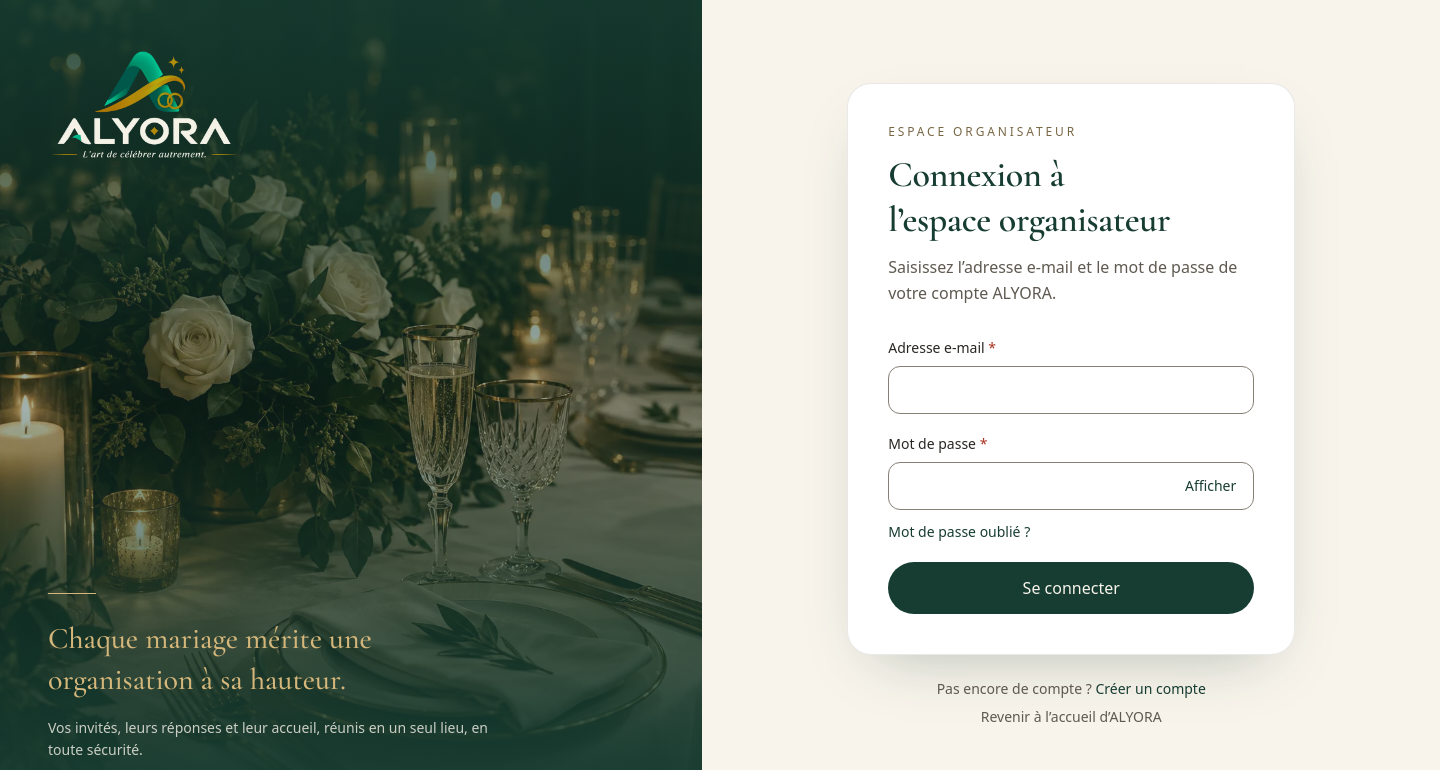
Scenario: login page › shows the invalid credentials message, and never tries a refresh for it
Type "awa@exemple.ci" into the field labelled "Adresse e-mail *" at (1071, 390), box [888,366,1254,414]
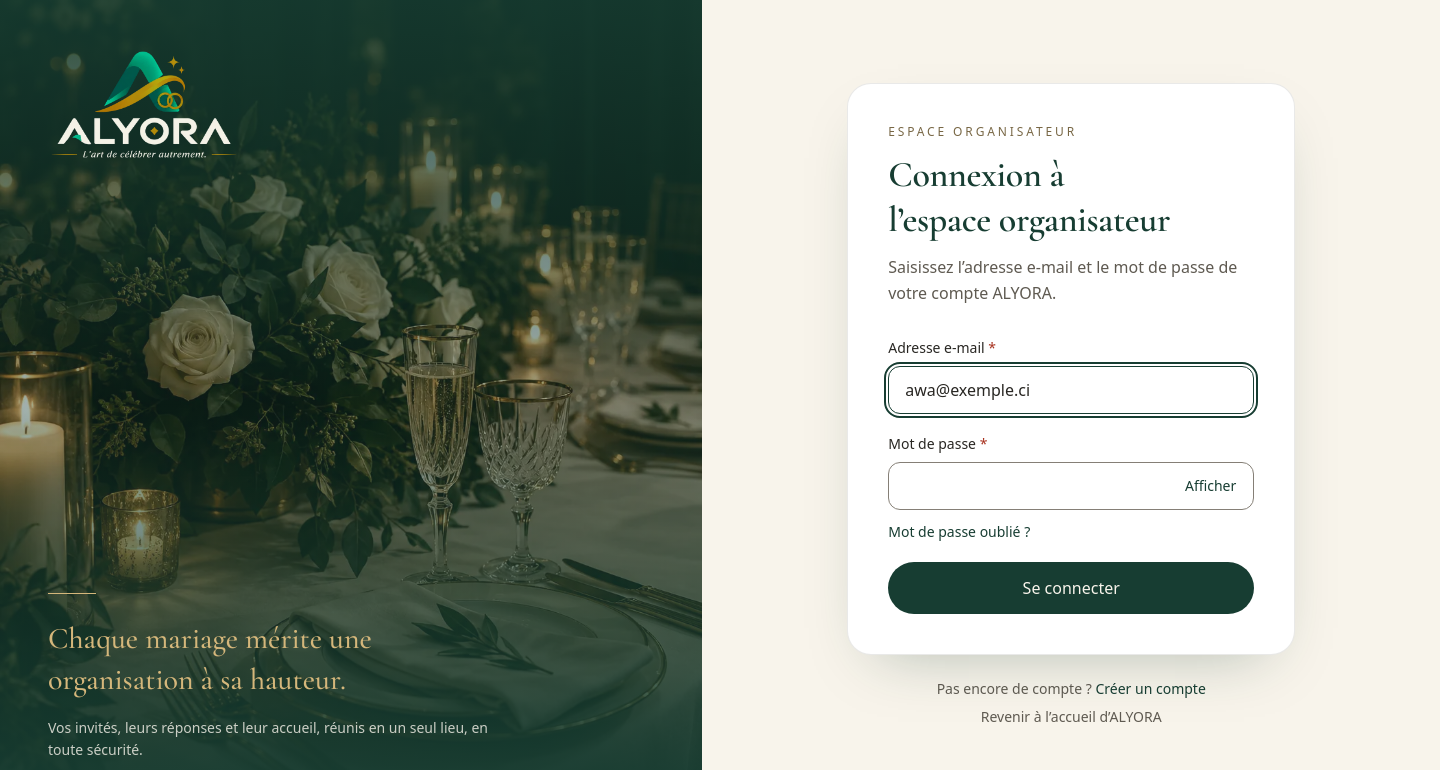
Type "Le soleil se lève" into the password field labelled "Mot de passe *" at (1071, 486), box [888,462,1254,510]
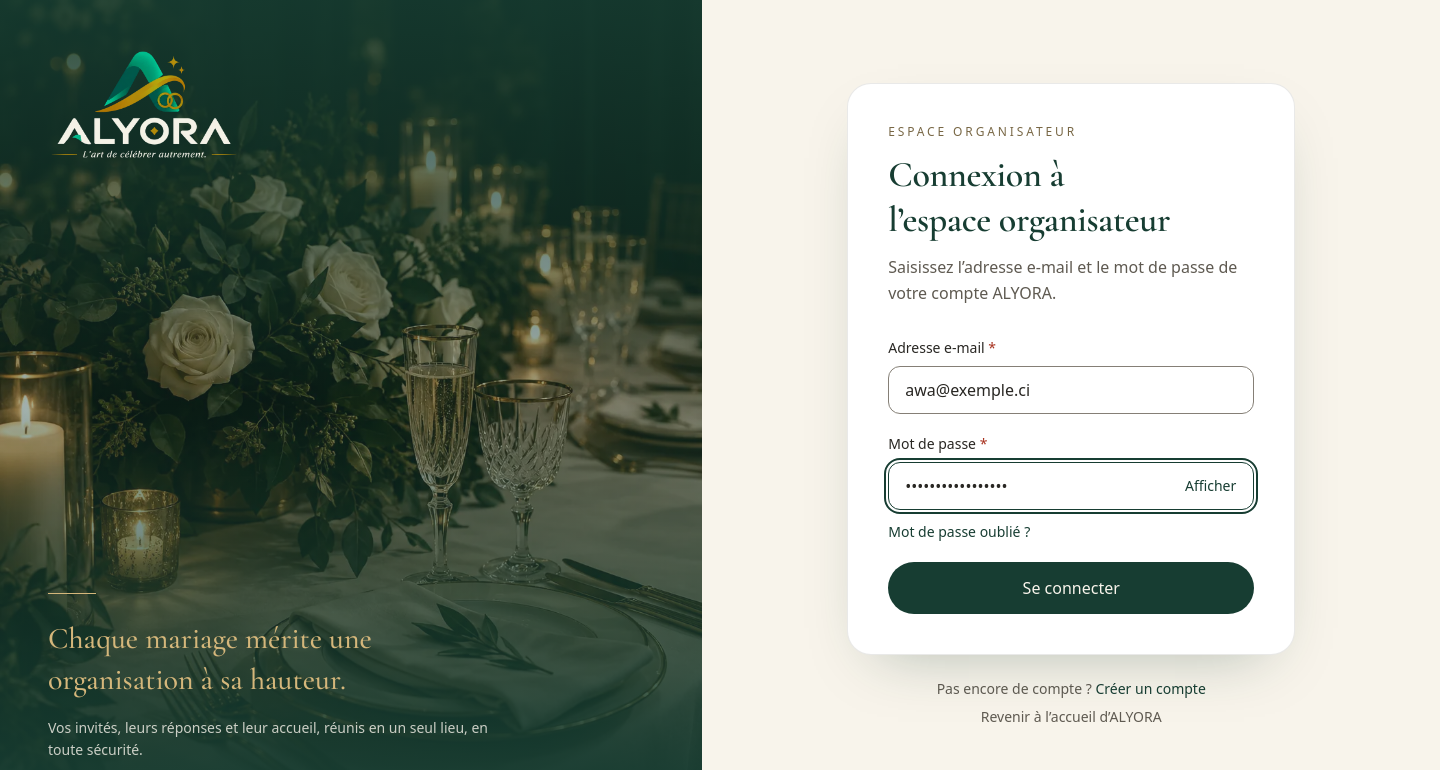
Click the button "Se connecter" at (1071, 588), box [888,562,1254,614]
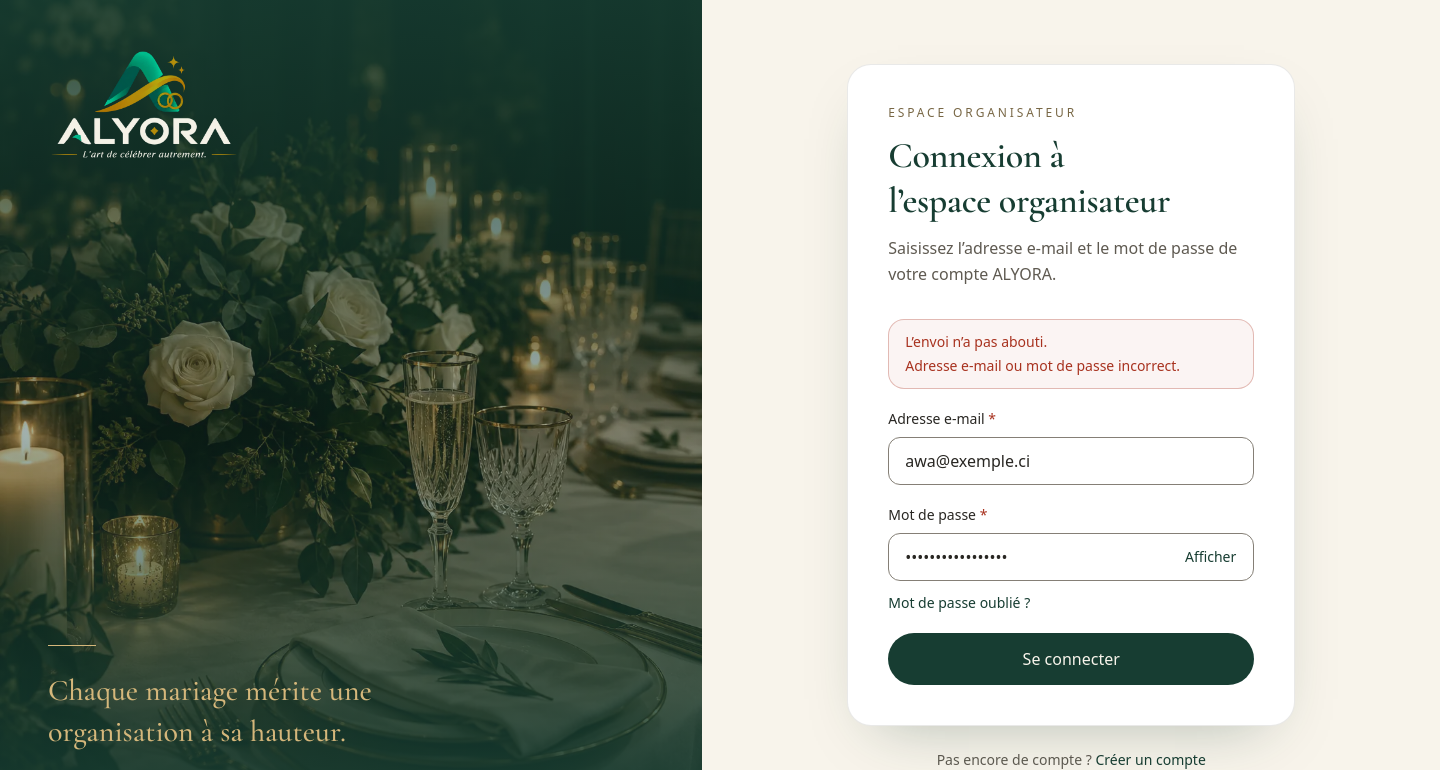
Result: the message shows "Adresse e-mail ou mot de passe incorrect." at [905,356,1180,375]
